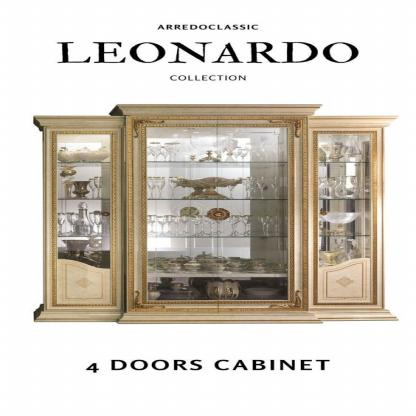Cupboard: (25, 106, 405, 326)
